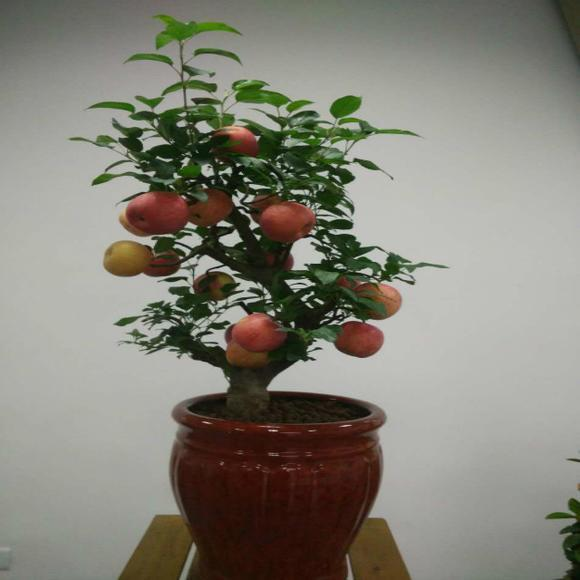apple: (126, 192, 189, 236), (261, 203, 316, 240), (233, 314, 285, 351), (333, 321, 385, 358), (353, 283, 403, 320), (103, 240, 151, 278), (188, 191, 233, 226), (210, 128, 259, 158), (226, 342, 275, 366), (195, 272, 234, 300), (145, 249, 181, 277)
